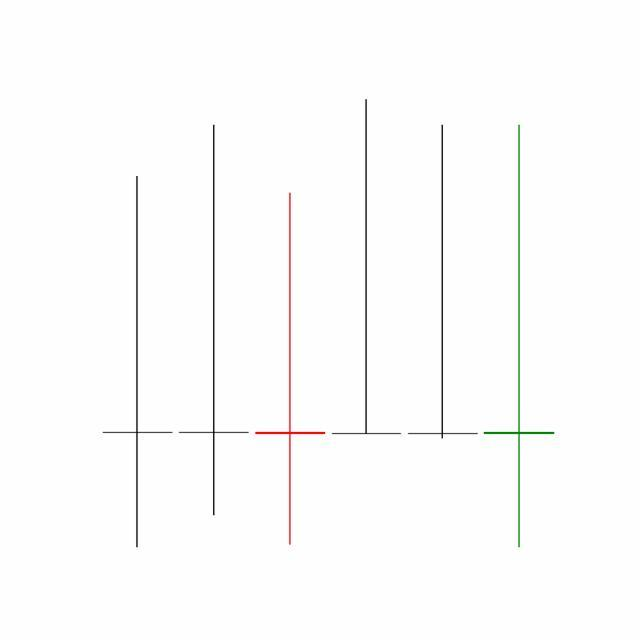Gravestone Doji: (404, 122, 482, 443)
